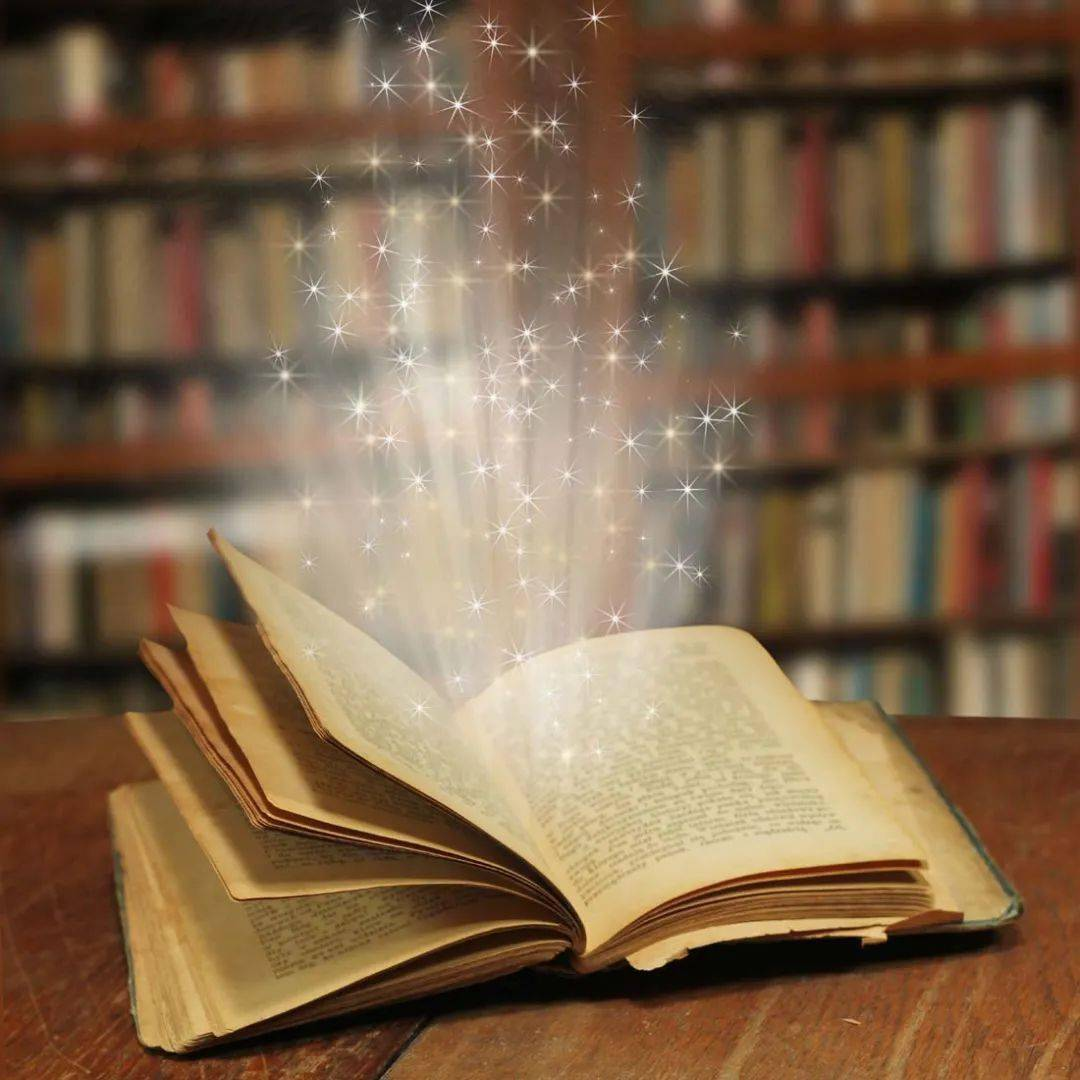book: (110, 526, 1032, 1064)
